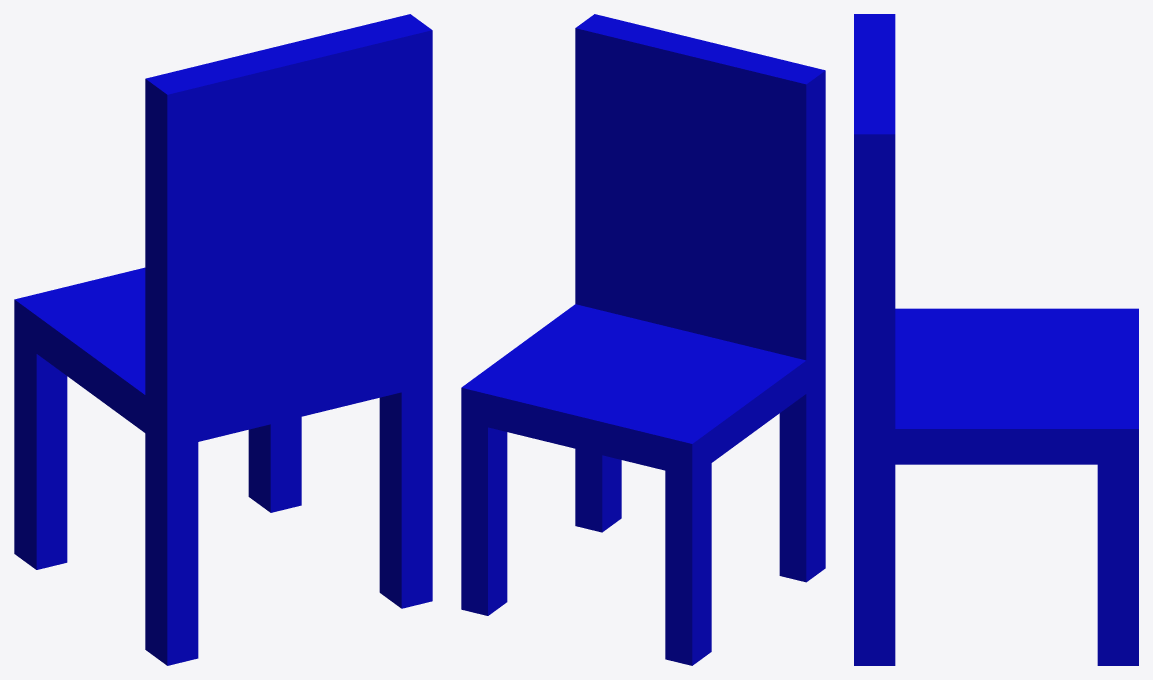
Rendered from TV_Proxy_Chair.fbx.
3 views of the same model, side by side, from view 1: azimuth 30°, elevation 25°; view 2: azimuth 150°, elevation 25°; view 3: azimuth 270°, elevation 25° (orthographic). The views are drawn at different scales.
Parts seen in each view (by area): view 1: Chair_Proxy; view 2: Chair_Proxy; view 3: Chair_Proxy.
Part boxes in pixels (<box>): Chair_Proxy: <box>14,14,432,665</box>; Chair_Proxy: <box>461,14,825,665</box>; Chair_Proxy: <box>854,14,1138,665</box>.
Bounding box in the file's own units: 1041 × 2144 × 1041.
